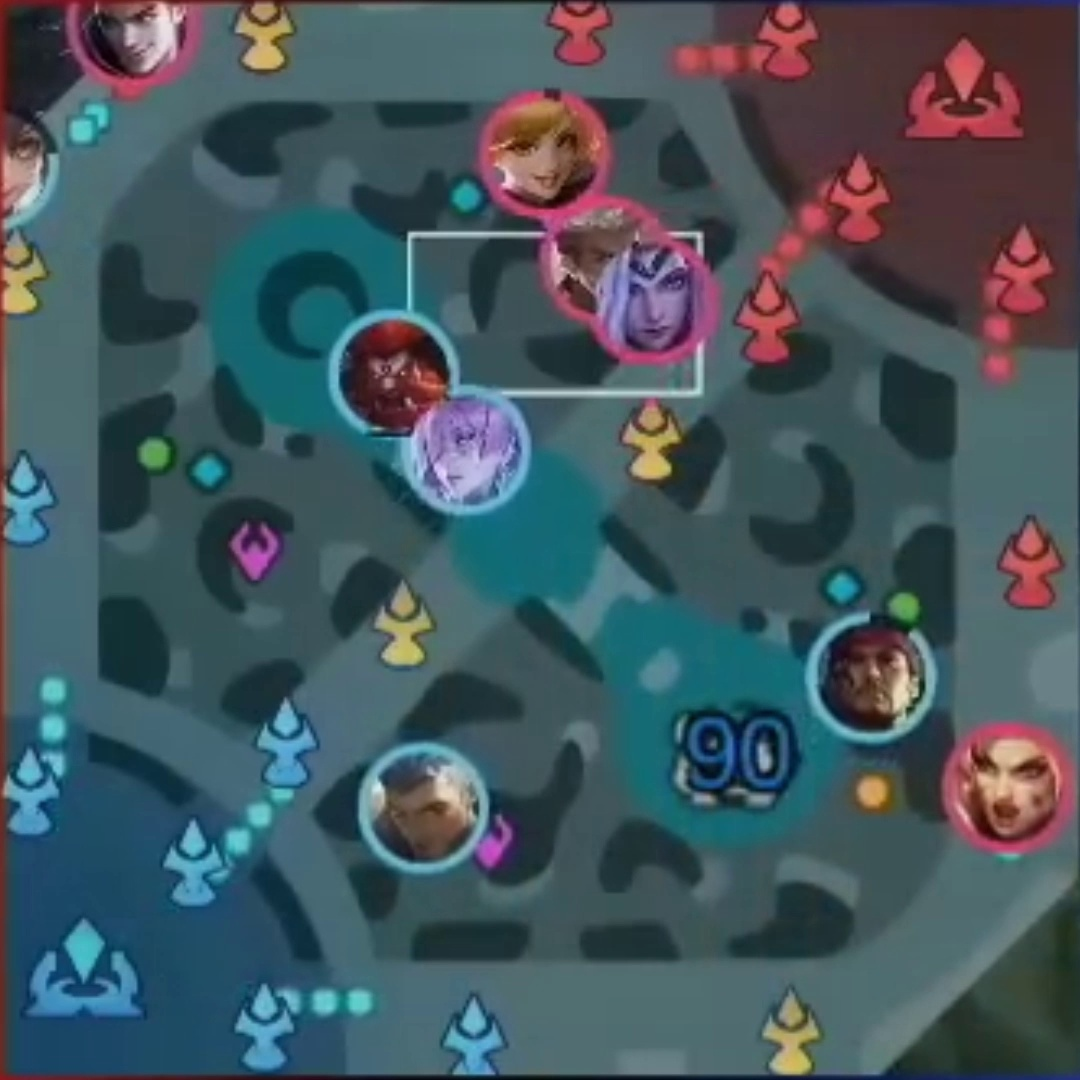Chou: (557, 204, 615, 307)
Claude: (82, 3, 170, 74)
Fanny: (498, 103, 579, 200)
Fredrinn: (382, 756, 469, 860)
Lapu-Lapu: (830, 629, 908, 720)
Masha: (966, 742, 1046, 835)
Minotaur: (350, 334, 436, 424)
Novaria: (422, 409, 506, 500)
Valentina: (612, 254, 690, 351)
Wanwan: (1, 114, 43, 209)
